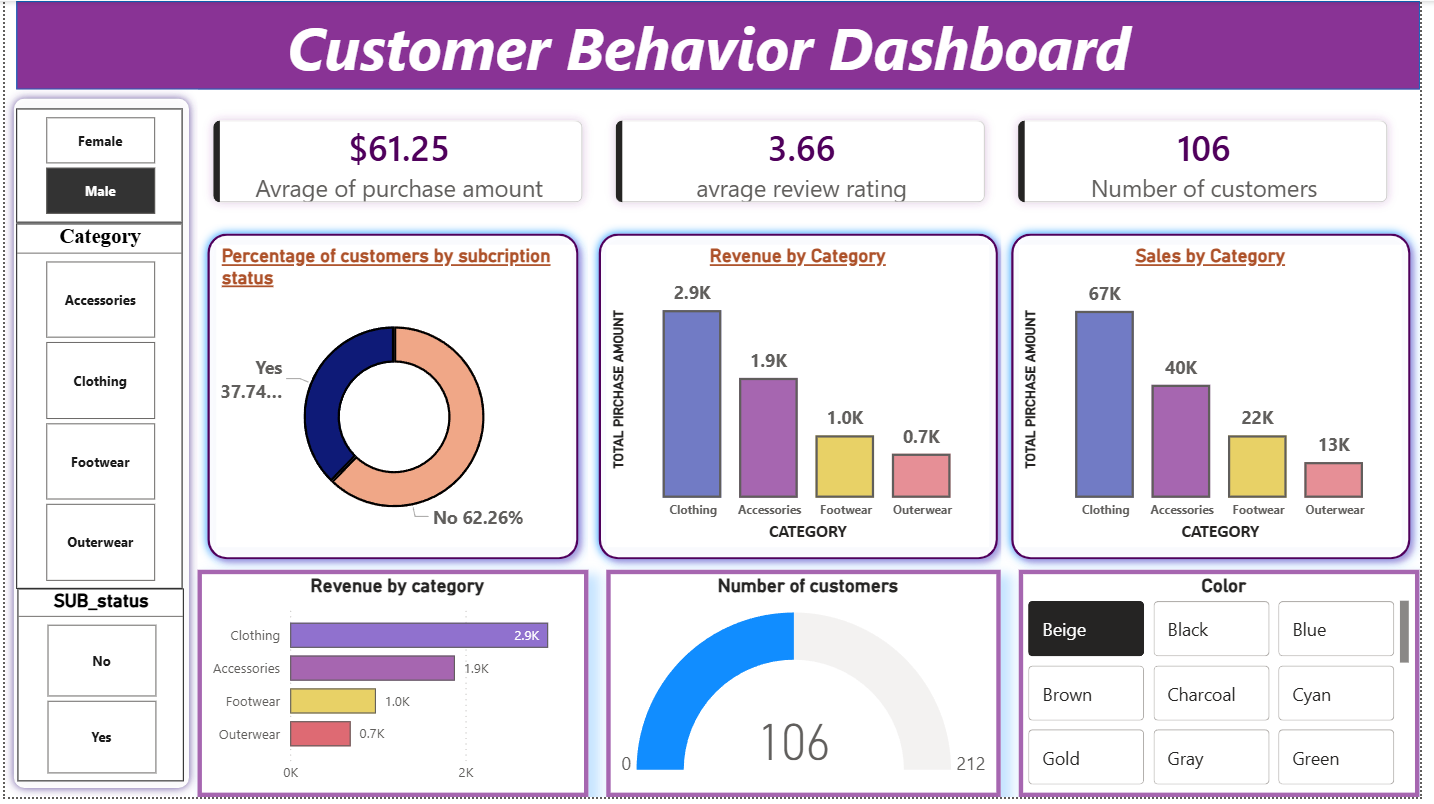

This screenshot's page, from the dashboard's own definition file:
{"tool":"powerbi","page":{"name":"Page 1","canvas":[1280,720],"ordinal":0},"visuals":[{"type":"cardVisual","fields":{"Data":["shopdb customers.Avrage of purchase amount","shopdb customers.avrage review rating","shopdb customers.Number of customers"]},"box":[160.5,80.2,1119.8,130.2],"z":0},{"type":"shape","box":[10.5,0,1269.8,80.2],"z":1000},{"type":"textbox","box":[8.1,0,1257,97.7],"z":2000},{"type":"shape","box":[174.4,201.2,353.5,312.8],"z":3000},{"type":"donutChart","title":"Percentage of customers by subcription status","fields":{"Y":["CountNonNull(shopdb customers.customer_id)"],"Category":["shopdb customers.subscription_status"]},"box":[190.7,220.9,322.1,273.3],"z":4000},{"type":"shape","box":[527.9,201.2,379.1,312.8],"z":5000},{"type":"clusteredColumnChart","title":"Revenue by Category","fields":{"Y":["Sum(shopdb customers.purchase_amount)"],"Category":["shopdb customers.category"]},"box":[544.2,220.9,346.5,273.3],"z":6000},{"type":"shape","box":[901.2,201.2,379.1,312.8],"z":7000},{"type":"clusteredColumnChart","title":"Sales by Category","fields":{"Y":["Sum(shopdb customers.customer_id)"],"Category":["shopdb customers.category"]},"box":[917.4,220.9,346.5,273.3],"z":8000},{"type":"shape","box":[0,80.2,174.4,639.5],"z":9000},{"type":"slicer","fields":{"Values":["shopdb customers.gender"]},"box":[10.5,97.7,150,103.5],"z":10000},{"type":"slicer","title":"SUB_status","fields":{"Values":["shopdb customers.subscription_status"]},"box":[11.6,531.4,150,174.4],"z":11000},{"type":"slicer","title":"Category","fields":{"Values":["shopdb customers.category"]},"box":[10.5,201.2,150,330.2],"z":12000},{"type":"clusteredBarChart","title":"Revenue by category","fields":{"Y":["Sum(shopdb customers.purchase_amount)"],"Category":["shopdb customers.category"]},"box":[174.4,514,353.5,205.8],"z":13000},{"type":"gauge","fields":{"Y":["shopdb customers.Number of customers"]},"box":[544.2,514,357,205.8],"z":14000},{"type":"advancedSlicerVisual","title":"Color","fields":{"Values":["shopdb customers.color"]},"box":[917.4,514,362.8,205.8],"z":14001}]}

Visuals, with their boxes in screenshot pixels (x1, y1, x2, y2), scaled from the page's 1280x720 canvas onto the 1434x804 screenshot:
cardVisual - shopdb customers.Avrage of purchase amount x shopdb customers.avrage review rating: [180, 90, 1433, 235]
shape: [12, 0, 1433, 90]
textbox: [9, 0, 1417, 109]
shape: [195, 225, 591, 574]
"Percentage of customers by subcription status" donutChart: [214, 247, 574, 552]
shape: [591, 225, 1016, 574]
"Revenue by Category" clusteredColumnChart: [610, 247, 998, 552]
shape: [1010, 225, 1433, 574]
"Sales by Category" clusteredColumnChart: [1028, 247, 1416, 552]
shape: [0, 90, 195, 803]
slicer - shopdb customers.gender: [12, 109, 180, 225]
"SUB_status" slicer: [13, 593, 181, 788]
"Category" slicer: [12, 225, 180, 593]
"Revenue by category" clusteredBarChart: [195, 574, 591, 803]
gauge - shopdb customers.Number of customers: [610, 574, 1010, 803]
"Color" advancedSlicerVisual: [1028, 574, 1433, 803]
